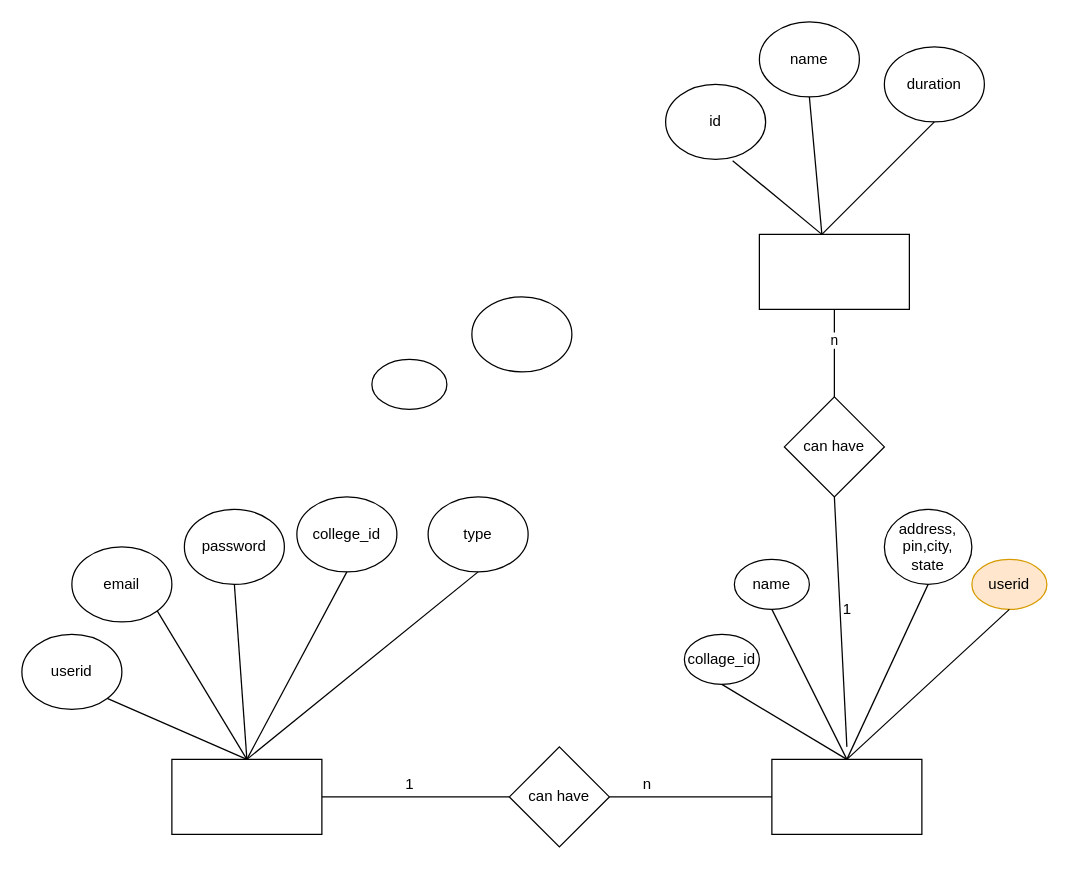
This 1069x869 diagram has some shape labels left out. The shapes that lost their labels are listed below. From the top down, each one's centre as x and y in pixels, then its label:
At [833,271]: "departments".
At [521,334]: "locality".
At [409,383]: "pin".
At [246,796]: "user".
At [846,796]: "collage".
